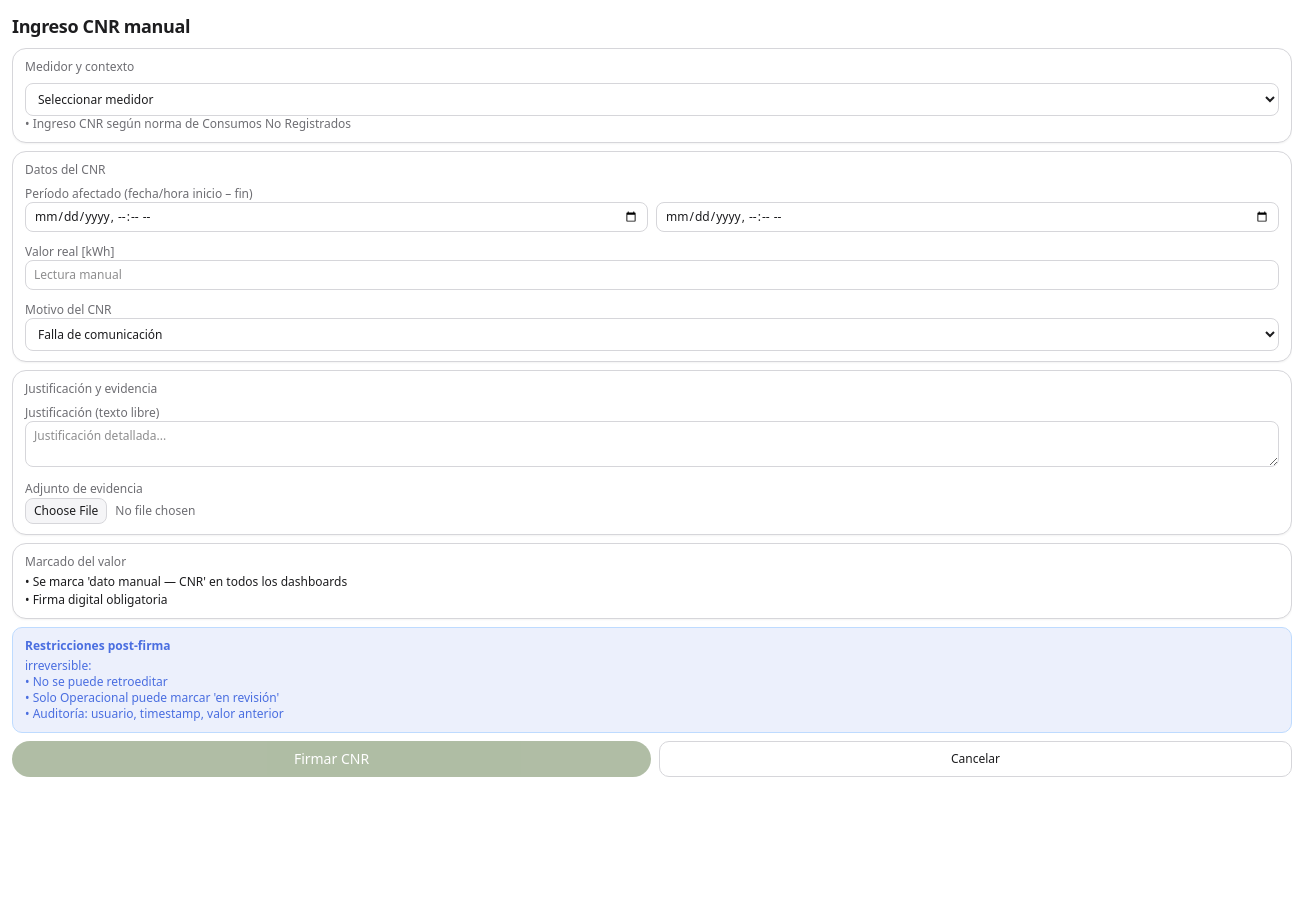
Test case: IngresoCnrPage › validation › submit enabled with all fields and 20+ char justification
Select "P1 — Mall Norte" in the dropdown below "Medidor y contexto" at coordinates (652, 100), box left=25, top=83, right=1279, bottom=116
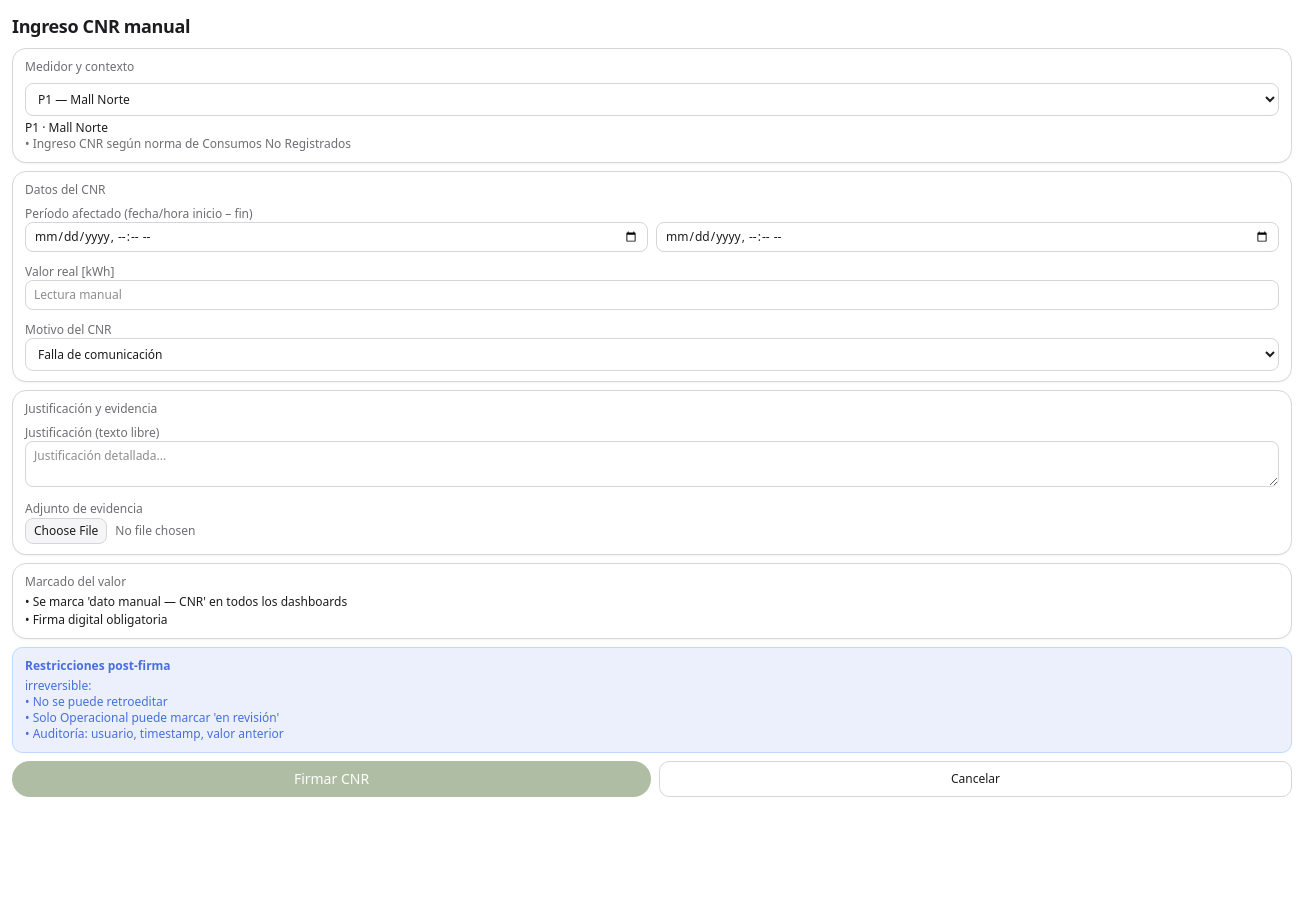
Type "2026-06-20T08:00" into the 1st field at coordinates (336, 237), box left=25, top=222, right=648, bottom=252
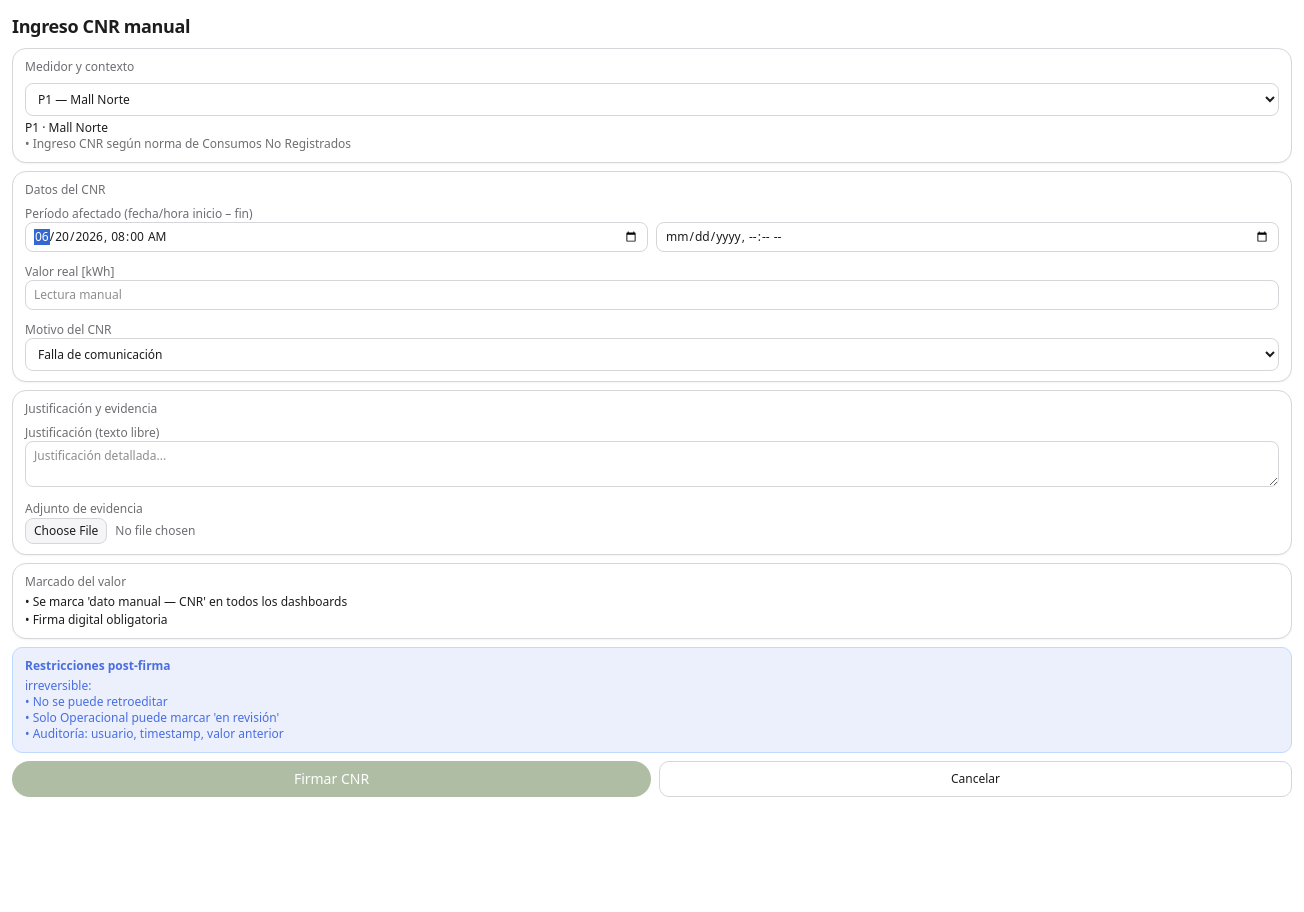
Type "2026-06-22T08:00" into the 2nd field at coordinates (968, 237), box left=656, top=222, right=1279, bottom=252
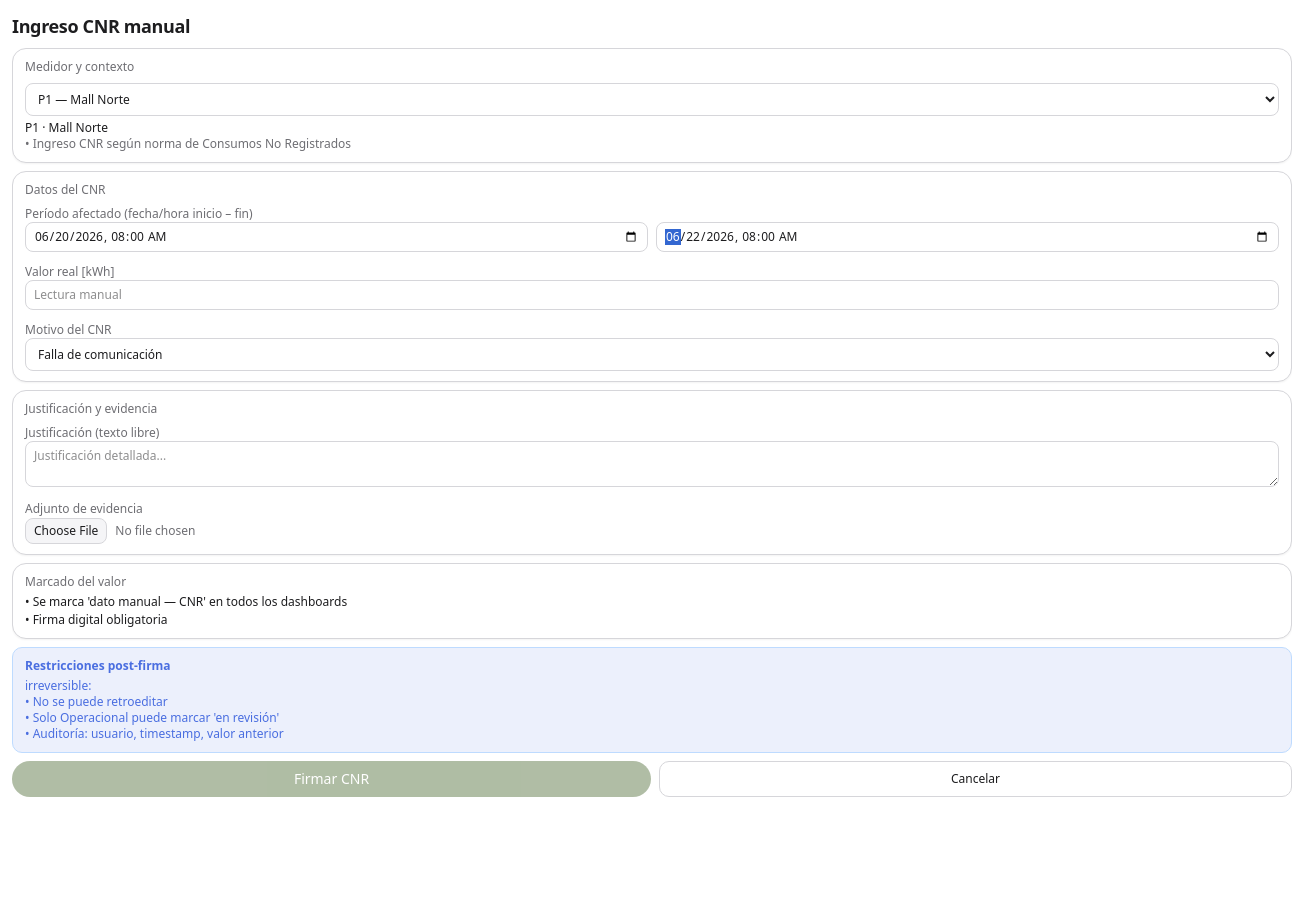
Type "150" into the number field with placeholder "Lectura manual" at coordinates (652, 295), box left=25, top=280, right=1279, bottom=310
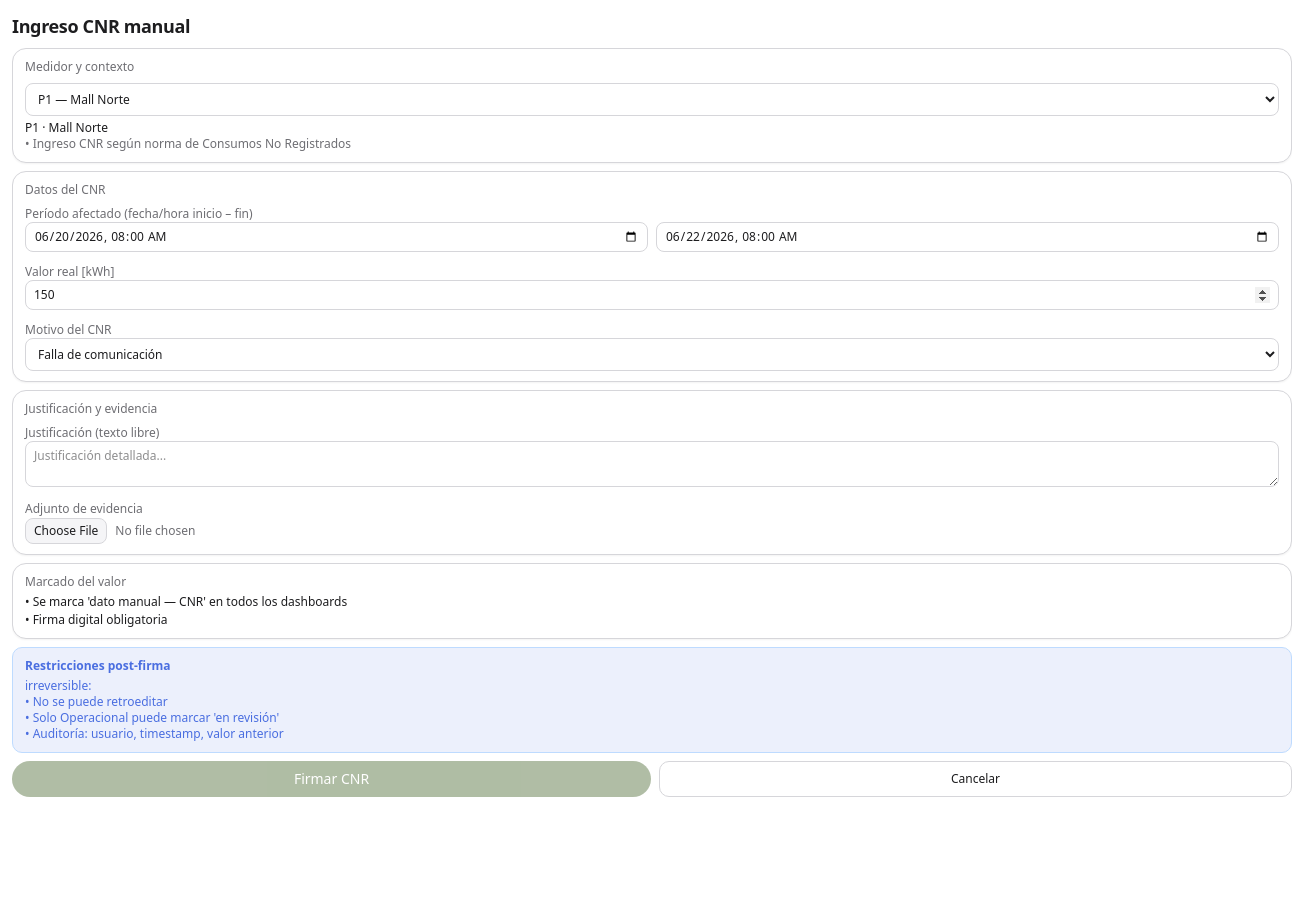
Type "Falla comunicación del medidor durante mantenimiento programado en terreno" into the text box with placeholder "Justificación detallada..." at coordinates (652, 464), box left=25, top=441, right=1279, bottom=487
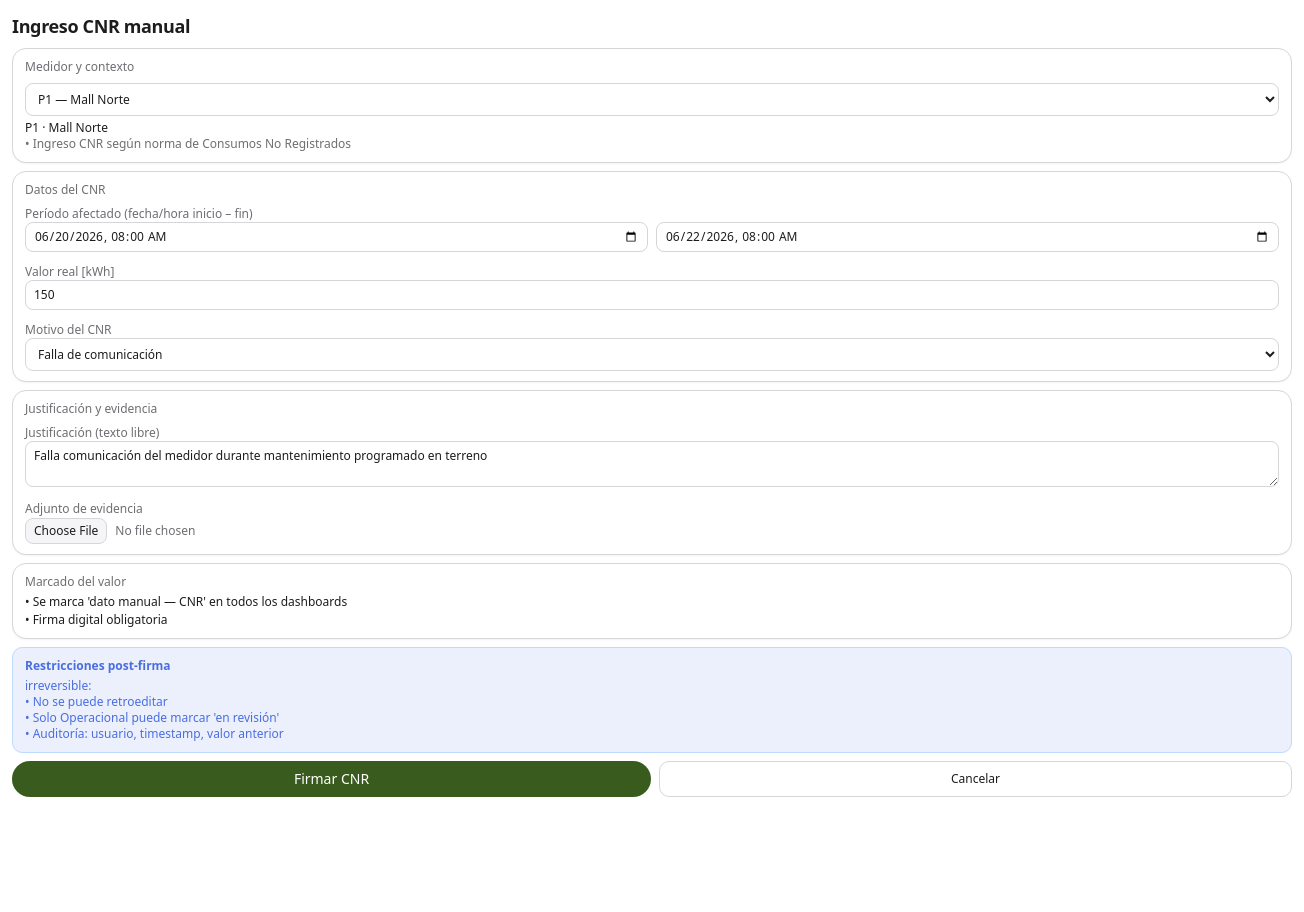
Now the button "Firmar CNR" is enabled, box left=12, top=761, right=651, bottom=797
